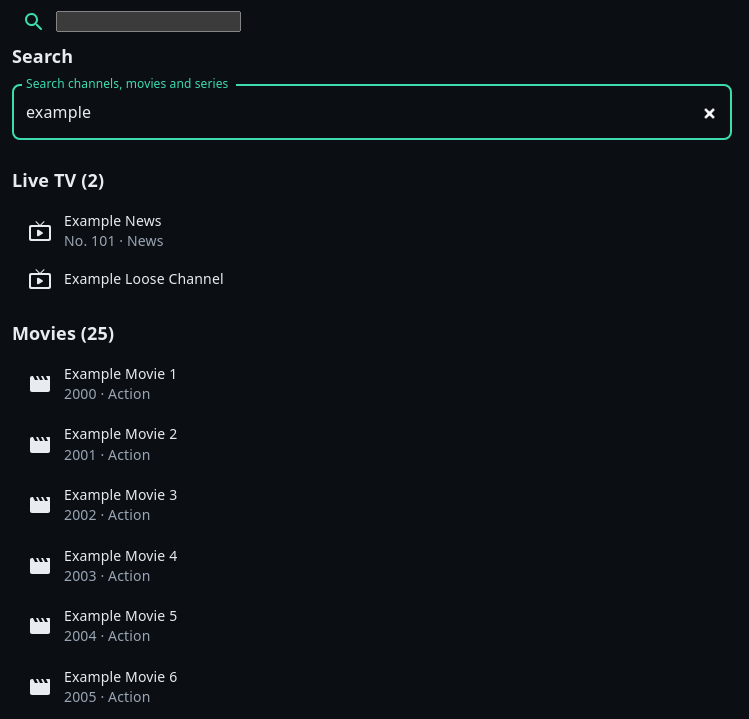
opening a result (AC3) › Example Movie 1 → /movies/10
Click the link "Example Movie 1 2000 · Action".
click(103, 383)  # box [28,364,177,403]
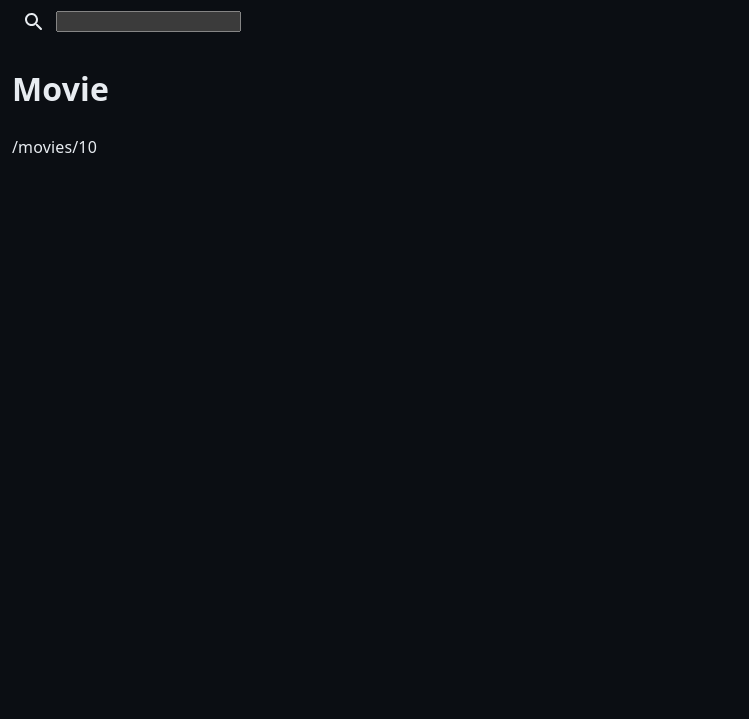
Result: the text with test id "location" reads "/movies/10" at [12,136,97,158]
